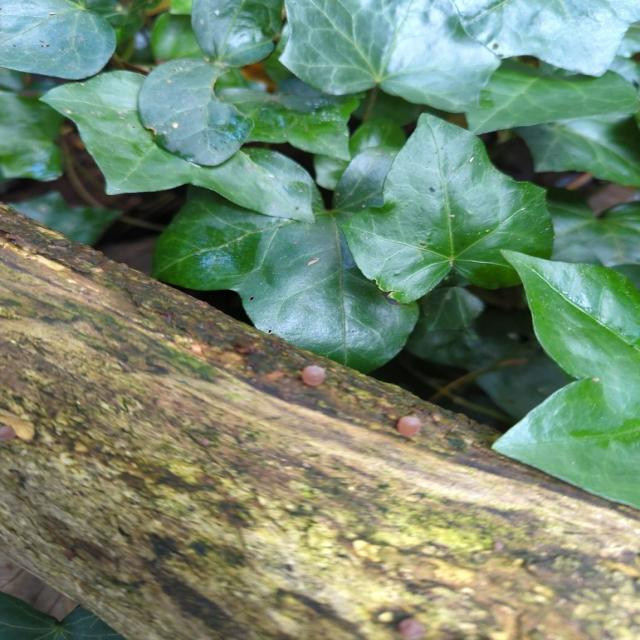primordia: (394, 416, 422, 437), (300, 364, 324, 386)
